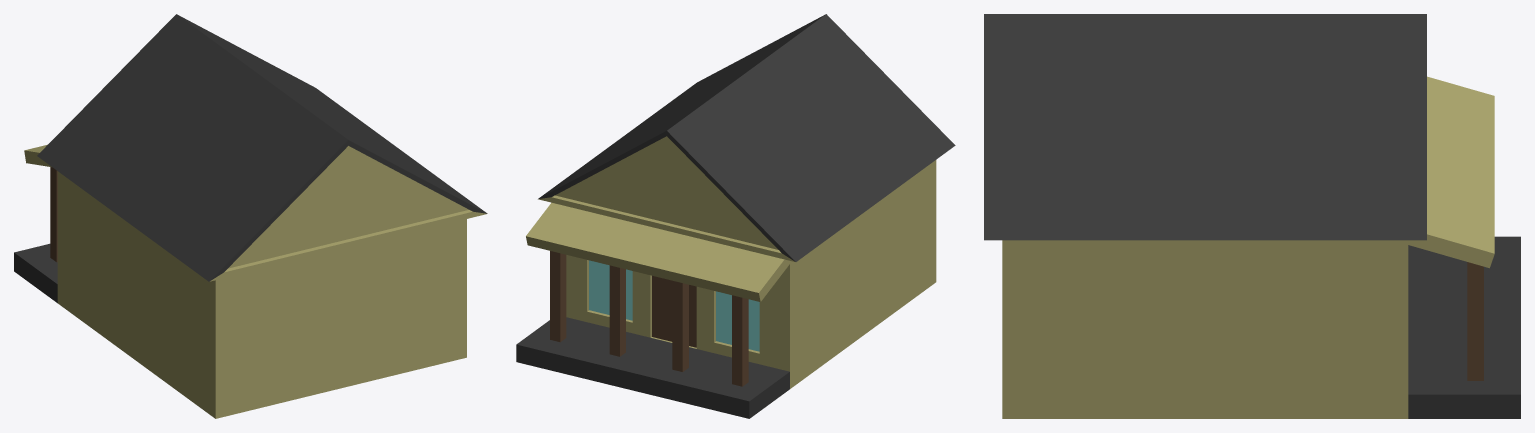
The model's file is House.fbx.
The picture shows the model from 3 angles, left to right: view 1: azimuth 30°, elevation 25°; view 2: azimuth 150°, elevation 25°; view 3: azimuth 270°, elevation 25°; orthographic projection. The views are drawn at different scales.
Parts seen in each view (by area): view 1: pCube10, House1, pCube11, pCube14; view 2: pCube10, House1, pCube11, pCube12, pCube15, pCube14, pCube16, pCube13; view 3: pCube10, House1, pCube11, pCube12, pCube13.
Boxes of the visible parts, left/top/right/bottom form: pCube10: left=37, top=14, right=487, bottom=281; House1: left=57, top=171, right=466, bottom=418; pCube11: left=14, top=243, right=57, bottom=302; pCube14: left=50, top=167, right=57, bottom=262; pCube10: left=538, top=14, right=955, bottom=261; House1: left=566, top=160, right=936, bottom=388; pCube11: left=516, top=317, right=789, bottom=418; pCube12: left=526, top=202, right=789, bottom=301; pCube15: left=609, top=265, right=625, bottom=356; pCube14: left=732, top=295, right=748, bottom=386; pCube16: left=672, top=280, right=688, bottom=371; pCube13: left=550, top=251, right=566, bottom=342; pCube10: left=984, top=14, right=1426, bottom=240; House1: left=1002, top=240, right=1408, bottom=418; pCube11: left=1408, top=236, right=1520, bottom=418; pCube12: left=1394, top=76, right=1494, bottom=268; pCube13: left=1467, top=262, right=1483, bottom=380.
Size of the model in its own units: 682 by 592 by 884.
